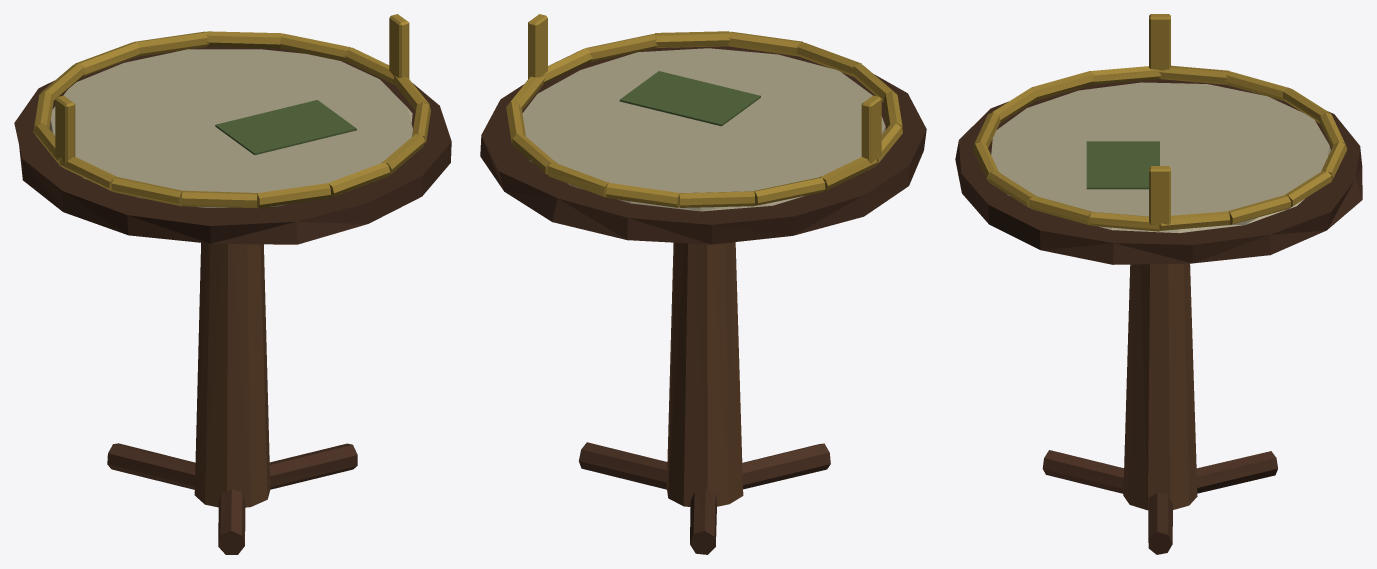
File: fire-finder.glb
3 views of the same model, side by side, from view 1: azimuth 30°, elevation 25°; view 2: azimuth 150°, elevation 25°; view 3: azimuth 270°, elevation 25° (orthographic). The views are drawn at different scales.
Parts seen in each view (by area): view 1: fire-finder; view 2: fire-finder; view 3: fire-finder.
Part boxes in pixels (x1=…): fire-finder: x1=14, y1=14, x2=451, y2=554; fire-finder: x1=480, y1=14, x2=926, y2=554; fire-finder: x1=955, y1=14, x2=1362, y2=554.
Bounding box in the file's own units: 1.1 × 1.23 × 1.11.
